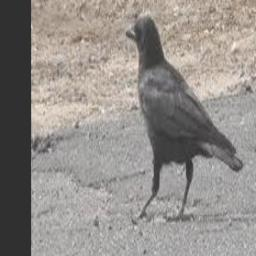Crow: (126, 15, 244, 224)
